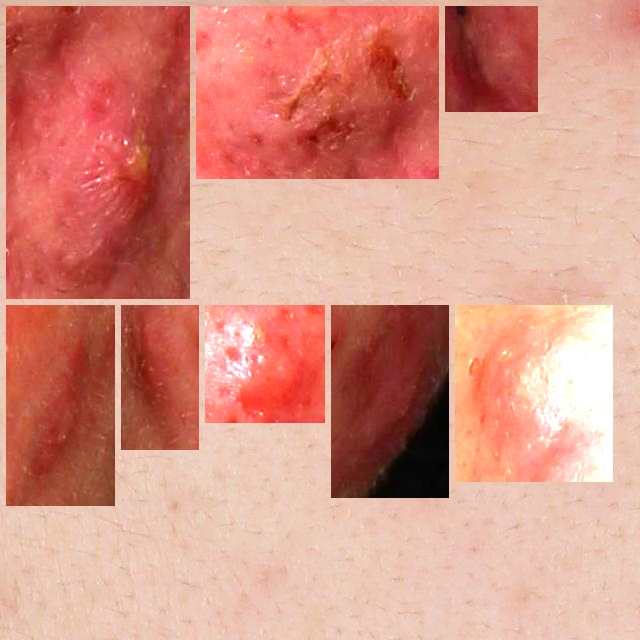nodule: (14, 14, 182, 291), (204, 14, 431, 171), (463, 313, 605, 474), (339, 313, 441, 490), (14, 313, 107, 498), (213, 313, 317, 415), (129, 313, 191, 442), (453, 14, 530, 104)
